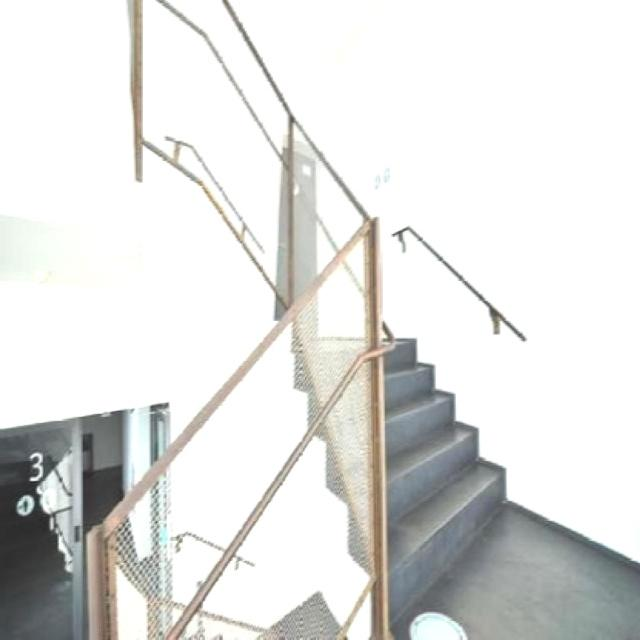stair: (298, 277, 576, 640)
